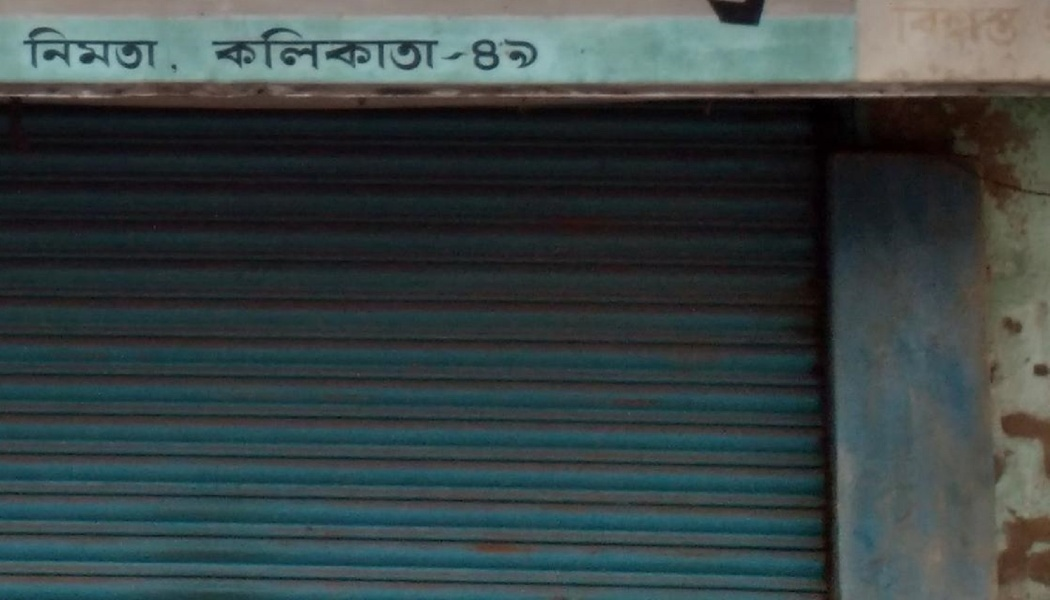text: (481, 23, 496, 80), (497, 23, 512, 80), (513, 23, 528, 80), (17, 23, 32, 76), (33, 23, 48, 76), (49, 23, 64, 76), (65, 23, 80, 76), (81, 23, 96, 76), (97, 23, 112, 76), (113, 23, 128, 76), (129, 23, 144, 76), (145, 23, 160, 76), (161, 23, 176, 76), (209, 23, 224, 75), (225, 23, 240, 75), (241, 23, 256, 75), (257, 23, 272, 75), (273, 23, 288, 75), (289, 23, 304, 75), (305, 23, 320, 75), (321, 23, 336, 75), (337, 23, 352, 75), (353, 23, 368, 75), (369, 23, 384, 75), (385, 23, 400, 75), (401, 23, 416, 75), (417, 23, 432, 75), (433, 23, 448, 75), (449, 23, 464, 75), (897, 1, 912, 51), (913, 1, 928, 51), (929, 1, 944, 51), (945, 1, 960, 51), (961, 1, 976, 51), (977, 1, 992, 51), (993, 1, 1008, 51), (1009, 1, 1024, 51), (177, 23, 191, 76), (529, 23, 541, 80), (471, 23, 480, 80), (10, 23, 16, 76), (465, 23, 471, 75), (892, 1, 896, 51), (1025, 1, 1027, 51), (207, 23, 208, 75)
